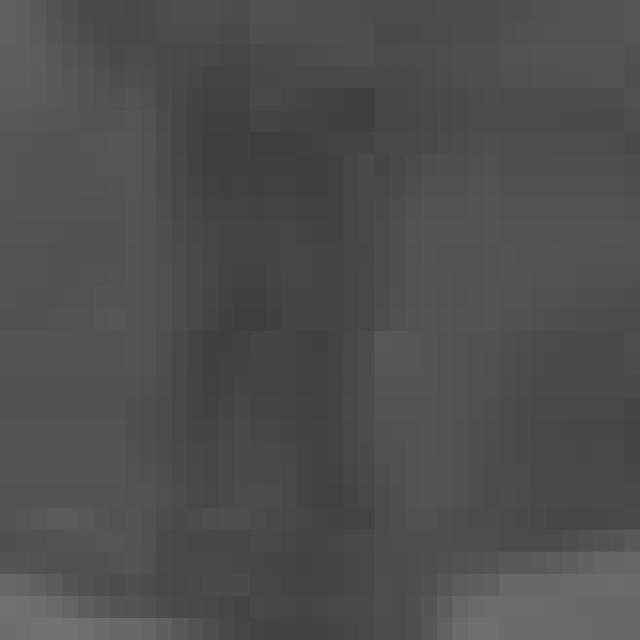fracture: (12, 17, 640, 640)
